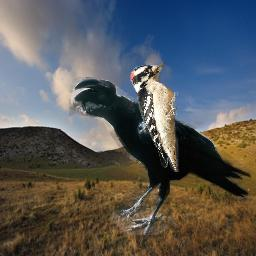Crow: (69, 77, 251, 235)
Woodpecker: (130, 62, 179, 172)
